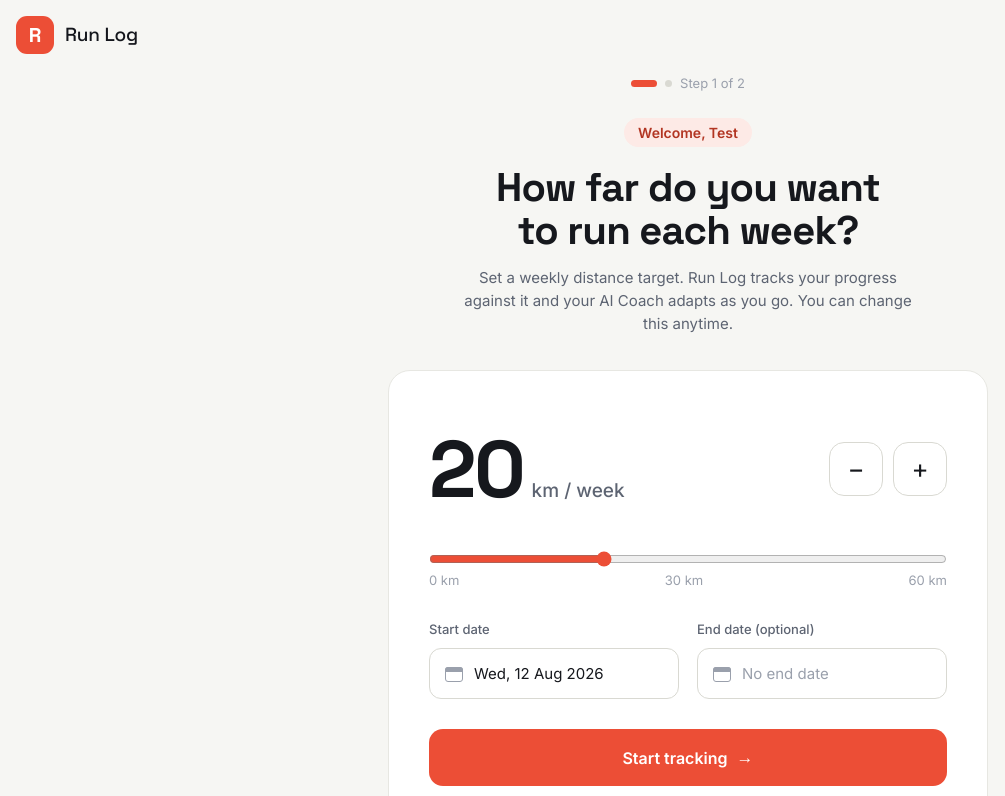
Test: Weekly goal step (RUN-8 / RUN-9) › matches the readout and stepper value to the slider when it moves
The width and height of the screenshot is (1005, 796).
Set the slider to "35" at point(730, 559), box [429,555,947,563]
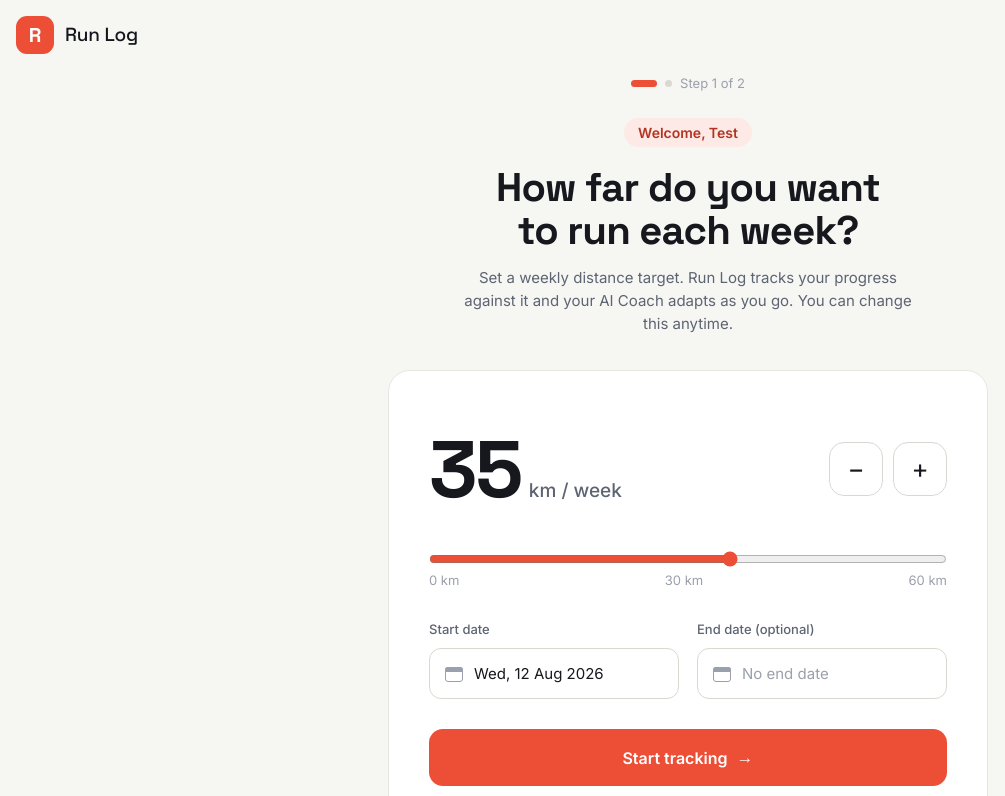
Now the text "35" is shown, box [429,409,521,529]
